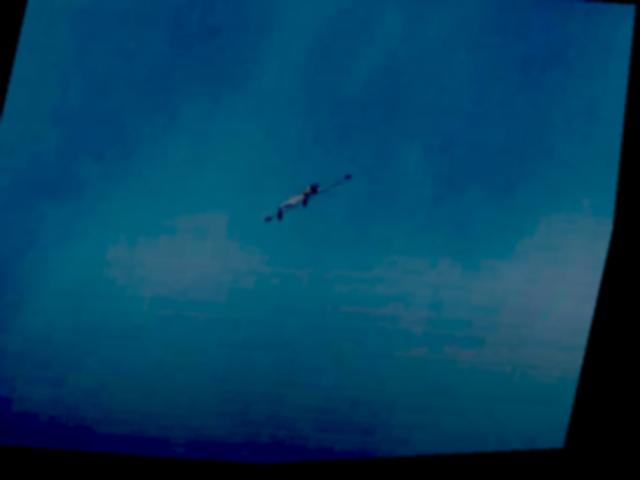iha: (271, 169, 353, 232)
